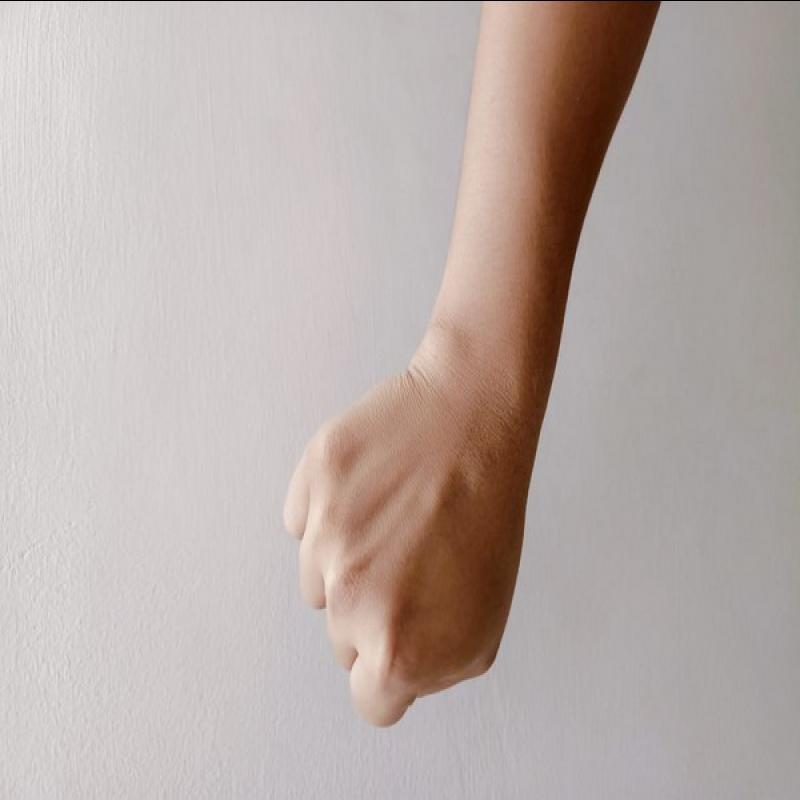Mushti: (268, 368, 552, 743)
